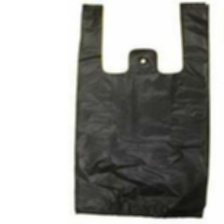plastic_bag: (63, 0, 215, 221)
